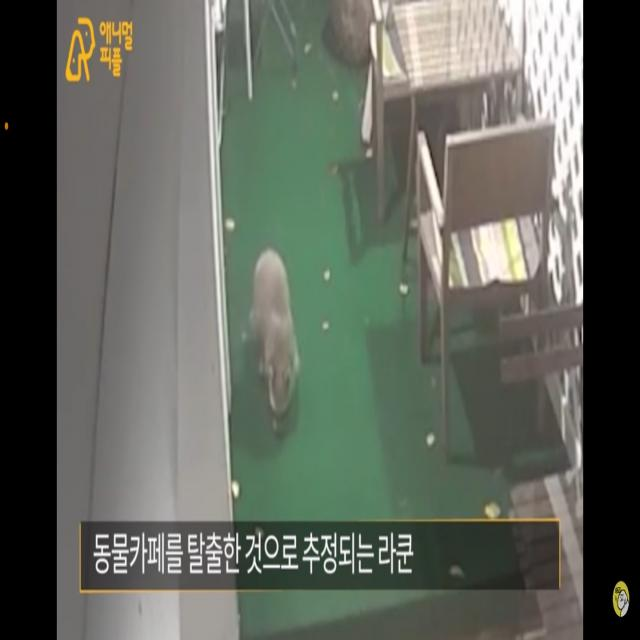racoon: (252, 233, 298, 443)
